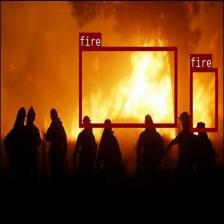fire: (79, 46, 176, 127), (190, 68, 217, 131)
